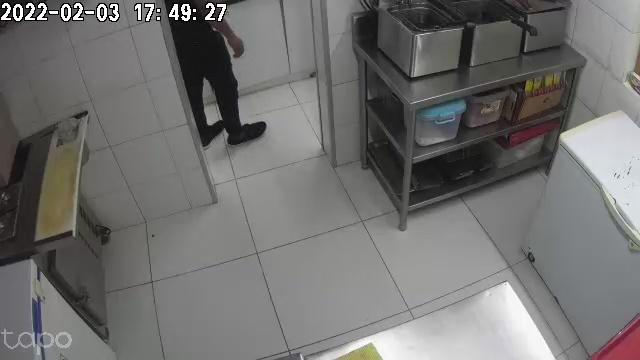no_gloves: (225, 30, 247, 59)
